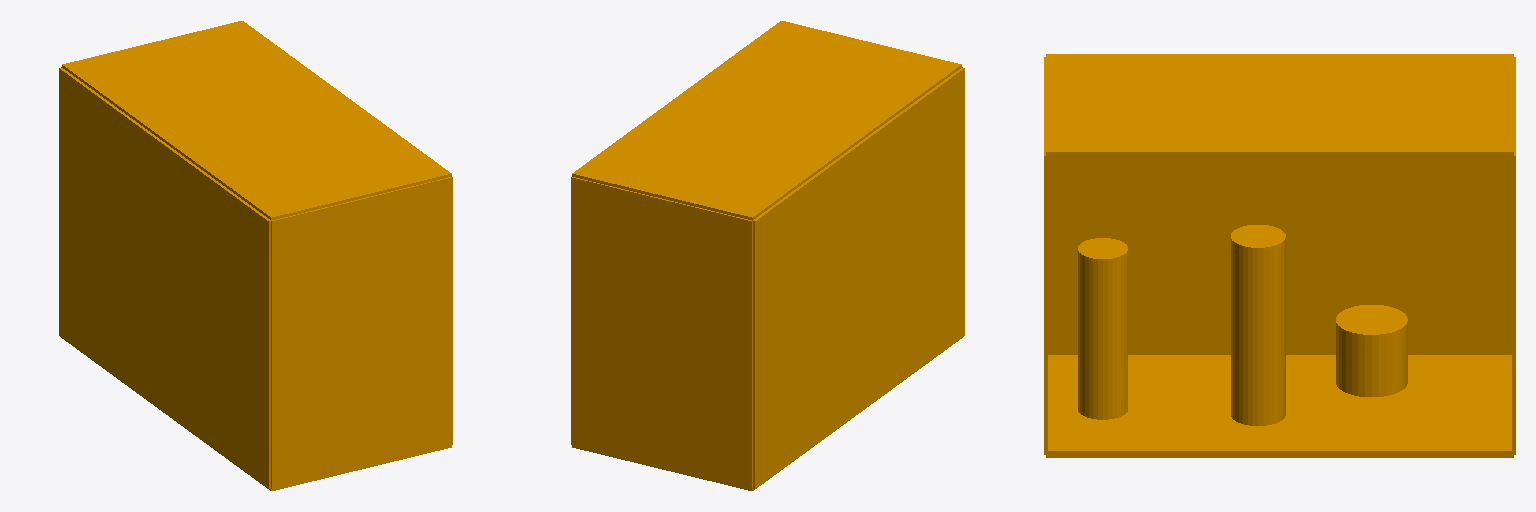
robot.urdf — syn_can_cabinet_1073:
<?xml version="1.0" ?>
<robot name="syn_can_cabinet_1073">
    <link concave="yes" name="base_link">
        <inertial>
            <origin rpy="0 0 0" xyz="0 0 0"/>
            <mass value="0.0"/>
            <inertia ixx="1e-08" ixy="0" ixz="0" iyy="1e-08" iyz="0" izz="1e-08"/>
        </inertial>
        <visual>
            <origin xyz="0 0 0" rpy="0 0 0" />
            <geometry>
                <mesh filename="syn_can_cabinet_1073.obj" scale="1.000000 1.000000 1.000000"/>
            </geometry>         
        </visual>

        <collision concave="yes">
            <origin xyz="0 0 0" rpy="0 0 0"/>
            <geometry>
                <mesh filename="syn_can_cabinet_1073.obj" scale="1.000000 1.000000 1.000000"/>
            </geometry>
        </collision>
    </link>
</robot>
    

--- Facts derived from the render (not from the file) ---
The picture shows the robot from 3 angles, left to right: view 1: azimuth 30°, elevation 25°; view 2: azimuth 150°, elevation 25°; view 3: azimuth 270°, elevation 25°; orthographic projection.
Model syn_can_cabinet_1073 with 1 links and 0 joints (none), rooted at base_link, posed all joints at 0.
Links seen in each view (by area): view 1: base_link; view 2: base_link; view 3: base_link.
Boxes of the visible links, x1,y1,x2,y2 form: base_link: (59,21,452,490); base_link: (571,21,964,490); base_link: (1044,54,1515,457).
Size in the robot's own frame: 0.2015 by 0.4016 by 0.2875 metres.
Meshes: 1 distinct files referenced, 1 mesh visuals loaded (1 OBJ).
